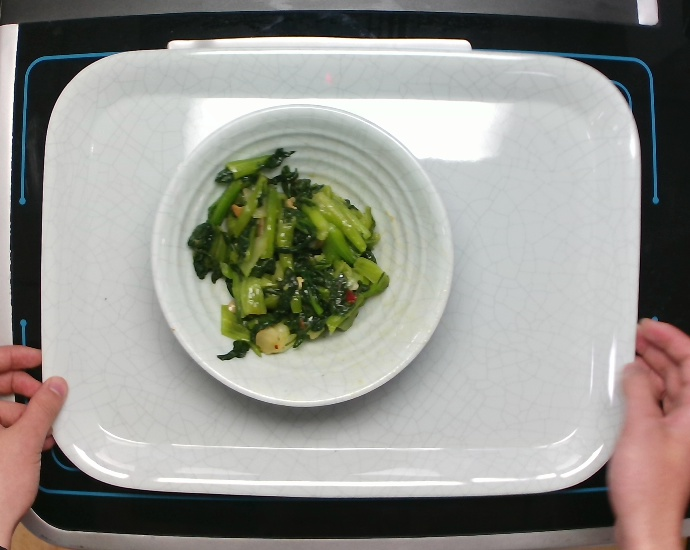JYsf-Xiao_Tang_Wan: (152, 97, 450, 406)
